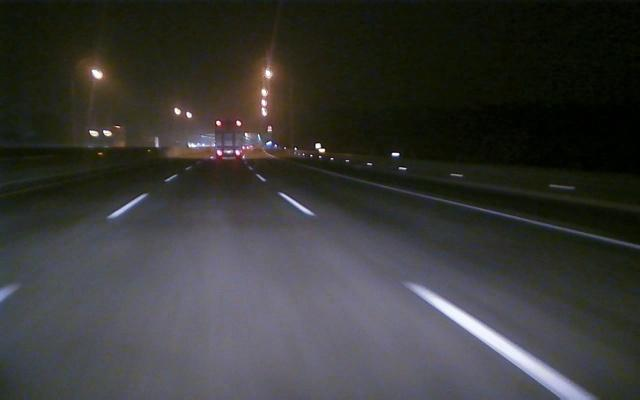lane: (276, 191, 599, 399), (2, 191, 152, 301), (416, 191, 640, 250)
